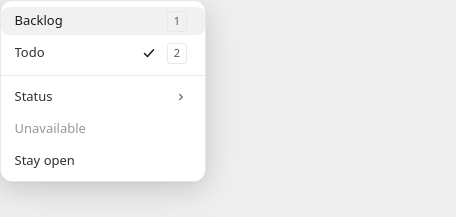
a submenu's filter keeps its caret keys; closing it returns focus to the parent
Press ArrowDown in the menu named "Pick", box [0,0,206,182]
Press ArrowDown in the menu named "Pick", box [0,0,206,182]
Press ArrowRight in the menu named "Pick", box [0,0,206,182]
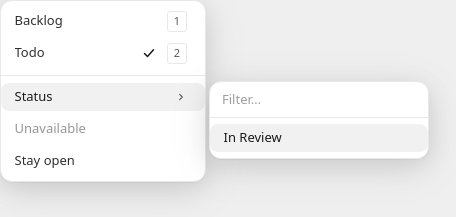
In the field with placeholder "Filter…": (319, 100) [222,90,416,109], type "abc"
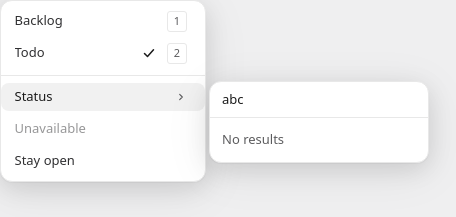
Press ArrowLeft in the field with placeholder "Filter…", box [222,90,416,109]
Result: the menu named "Status" is shown at [209,81,429,162]
Press ArrowLeft in the field with placeholder "Filter…", box [222,90,416,109]
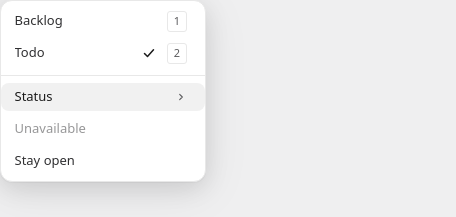
Result: the menu "No results" is gone
